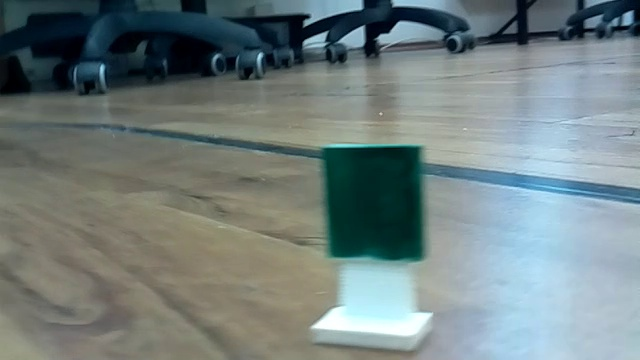rect: (306, 133, 448, 357)
